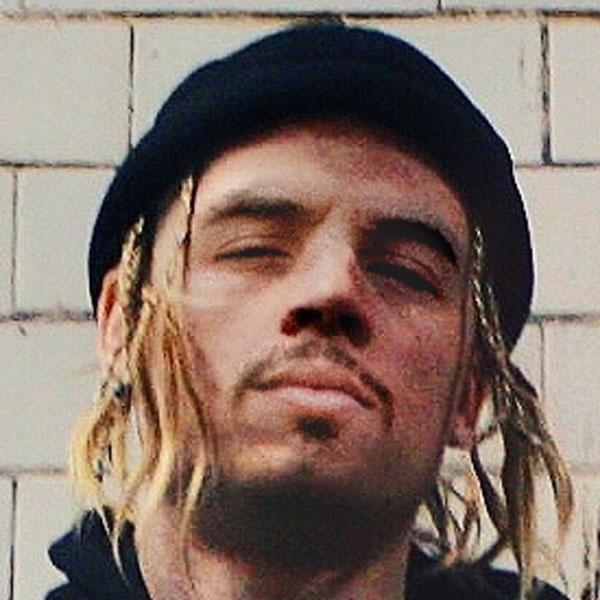Eyes: (352, 235, 449, 313), (209, 219, 302, 278)
